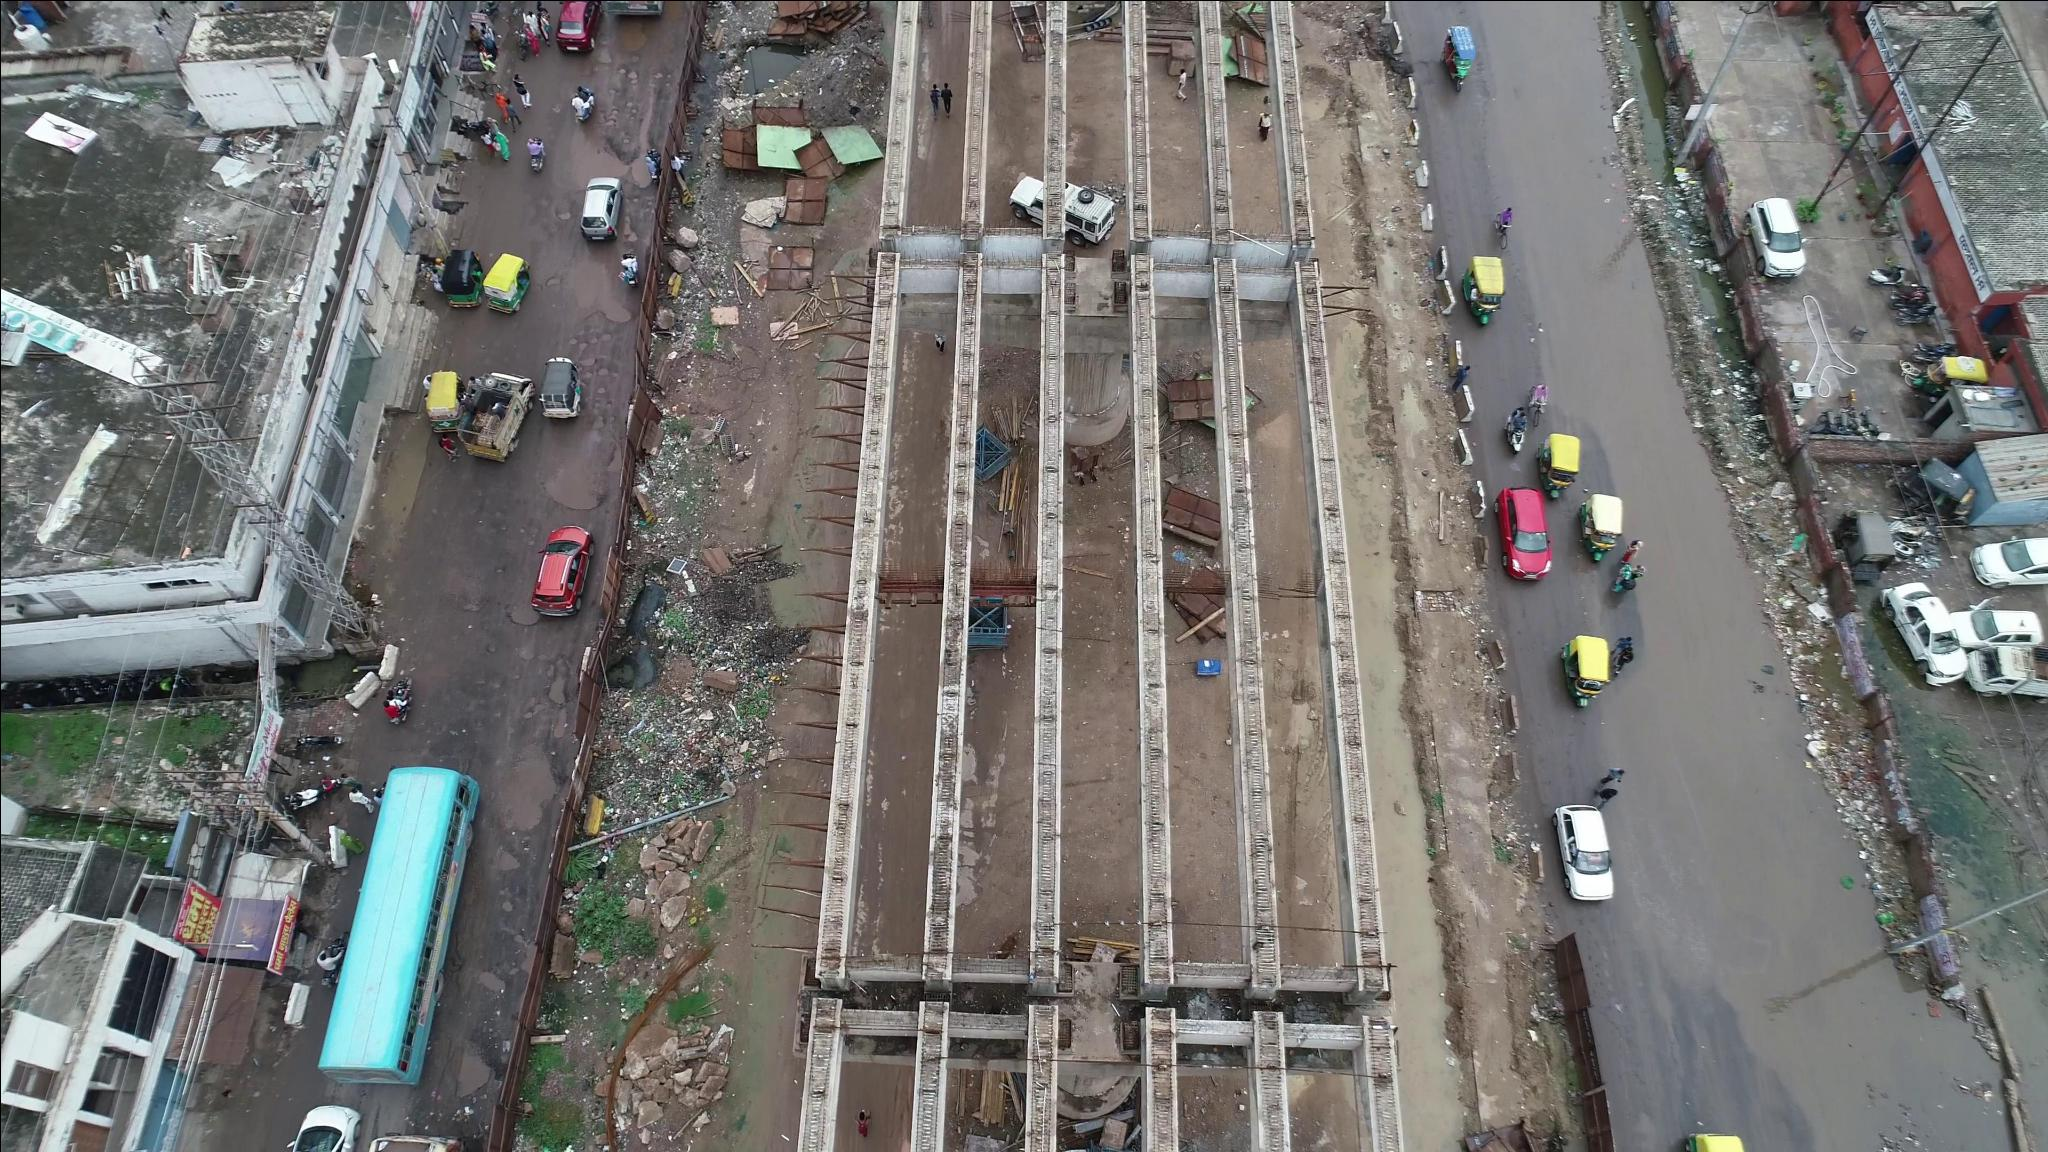Potholes: (1525, 117, 1656, 395), (1627, 443, 1744, 695), (592, 34, 663, 143), (499, 627, 567, 736), (575, 304, 625, 423)
